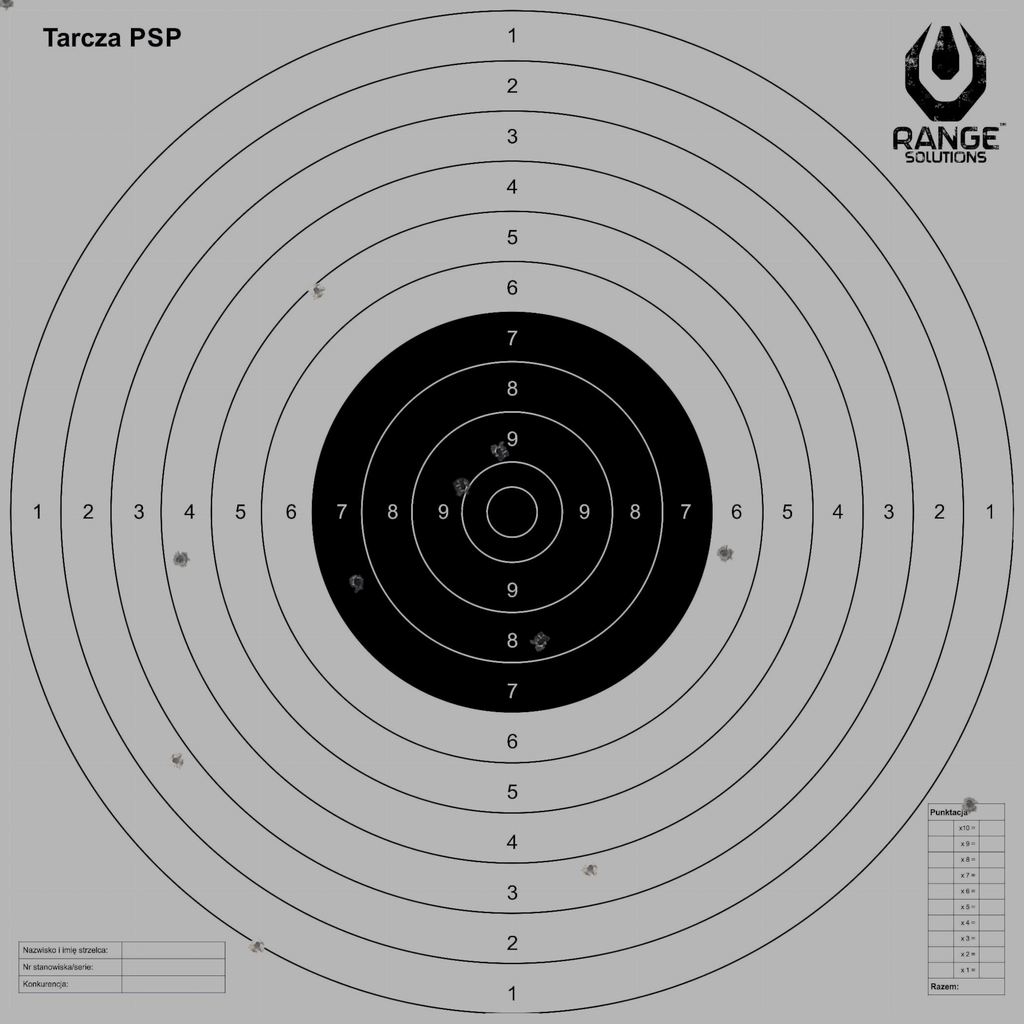0 punktow: (961, 795, 979, 814)
1 punkt: (248, 936, 267, 955)
10 punktow: (454, 478, 472, 496)
2 punkty: (167, 751, 185, 770)
3 punkty: (581, 859, 600, 878)
4 punkty: (171, 550, 190, 569)
5 punktow: (308, 281, 326, 300)
6 punktow: (715, 544, 734, 562)
7 punktow: (348, 573, 366, 592)
8 punktow: (532, 632, 550, 651)
9 punktow: (490, 443, 509, 461)
